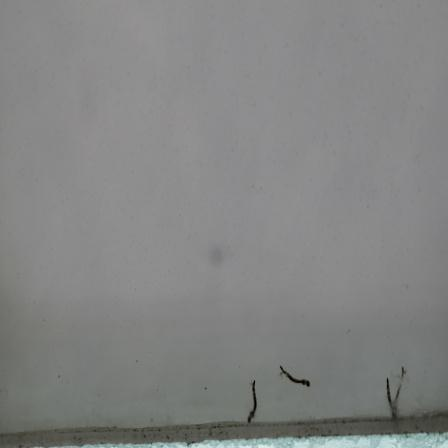Jentik-Nyamuk: (276, 361, 313, 393), (245, 377, 261, 427), (383, 376, 399, 421)
